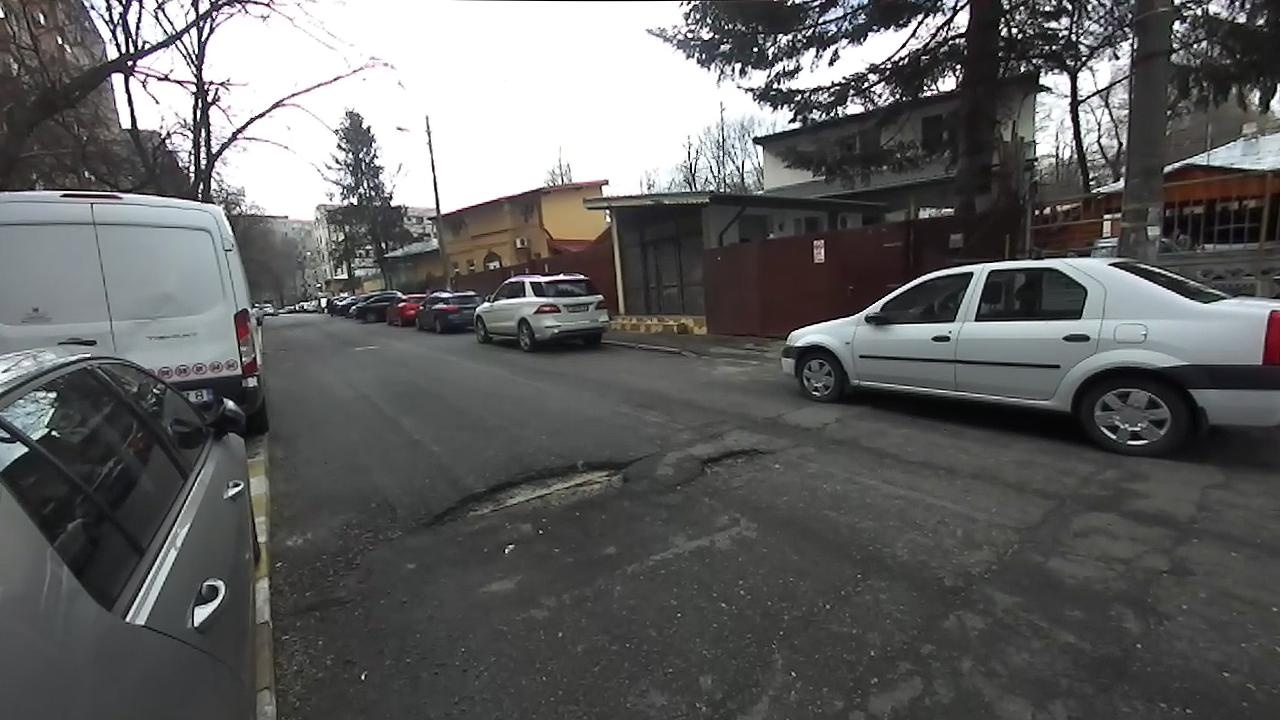pothole: (417, 453, 642, 535), (678, 442, 777, 489)
